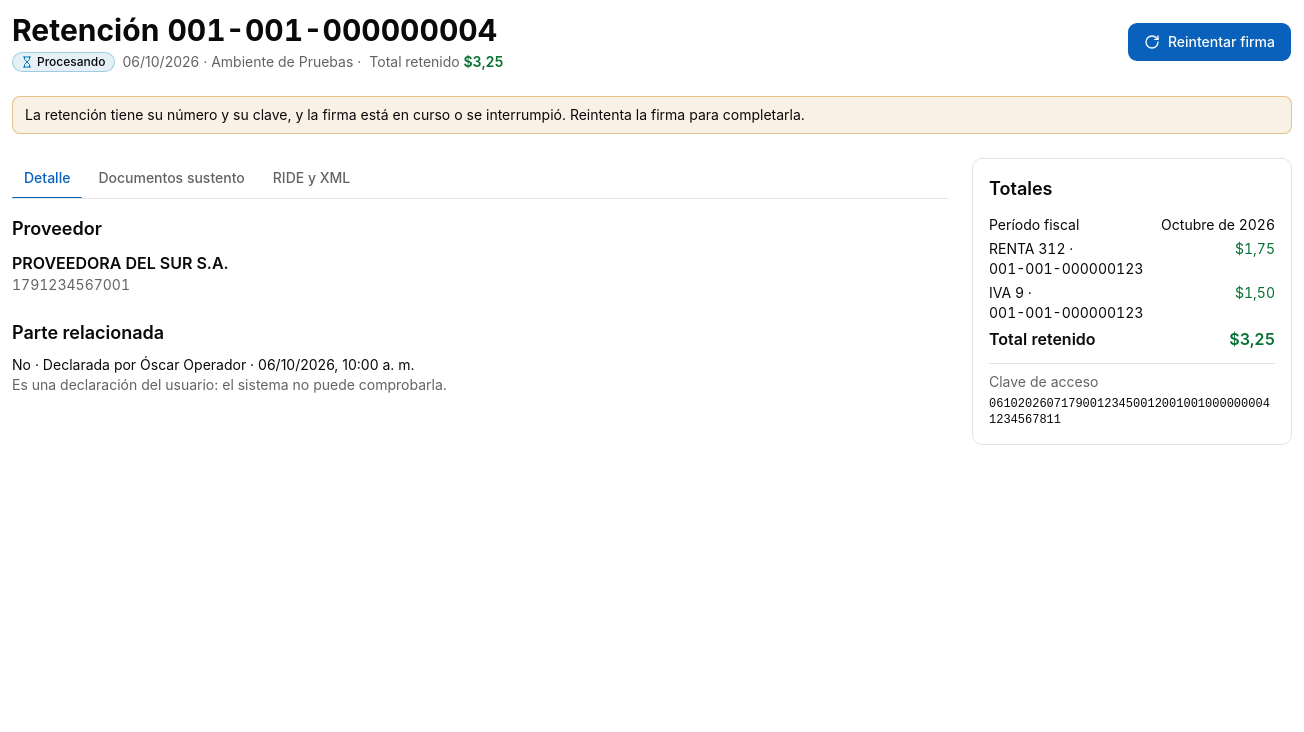
Scenario: detalle de la retención › procesando: explica la firma pendiente y reintenta la firma
The image size is (1304, 732).
Expected: the text "la firma está en curso o se interrumpió" is shown, [25,106,805,123]
Expected: the element "Transmisión al SRI" is not shown
Click the button "Reintentar firma" at (1209, 42), box [1127,22,1292,62]
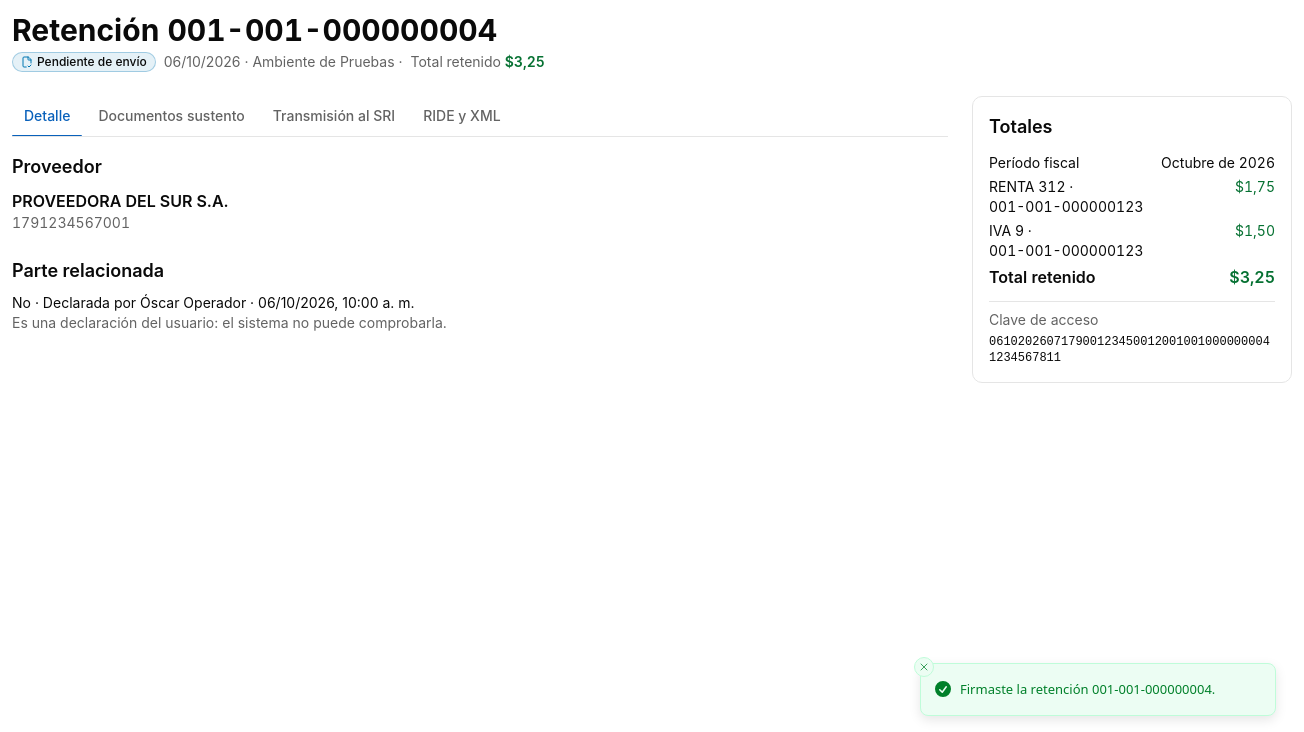
Result: the text "Firmaste la retención 001-001-000000004." is shown at [960,680,1215,699]
Click the tab "Transmisión al SRI" at (334, 116), box [261,96,407,136]
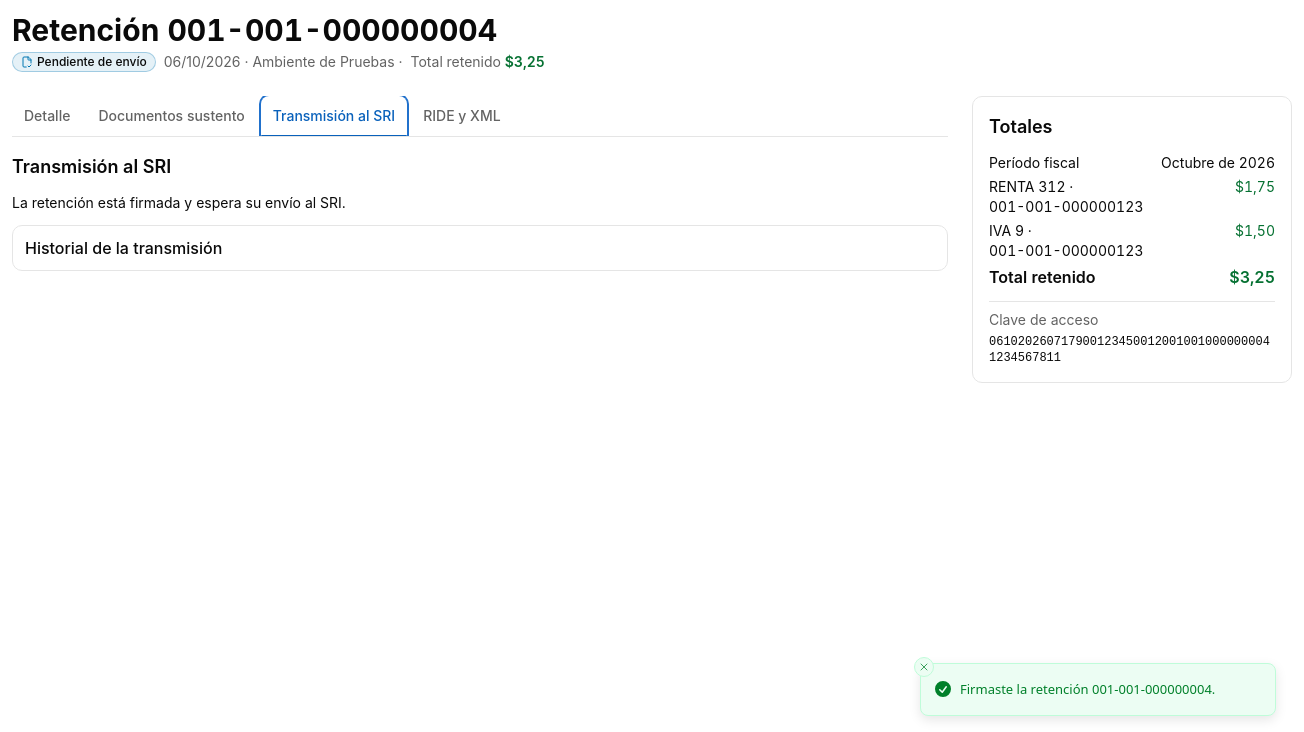
Result: the text "La retención está firmada y espera su envío al SRI." is shown at [12,194,346,211]
